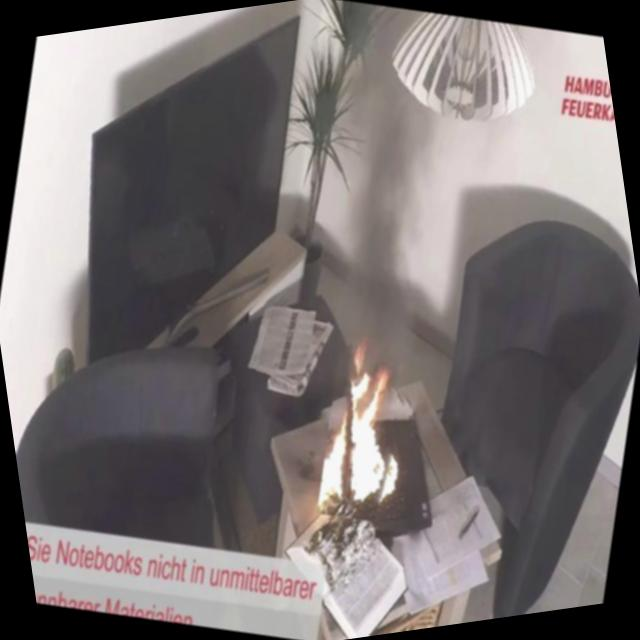fire: (301, 326, 444, 516)
